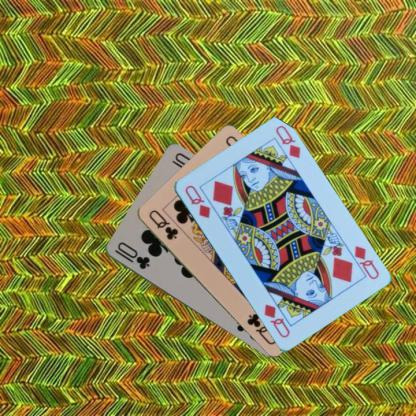10c: (111, 239, 151, 271)
Qc: (146, 207, 180, 241)
Qd: (344, 243, 380, 281), (182, 182, 212, 219)
